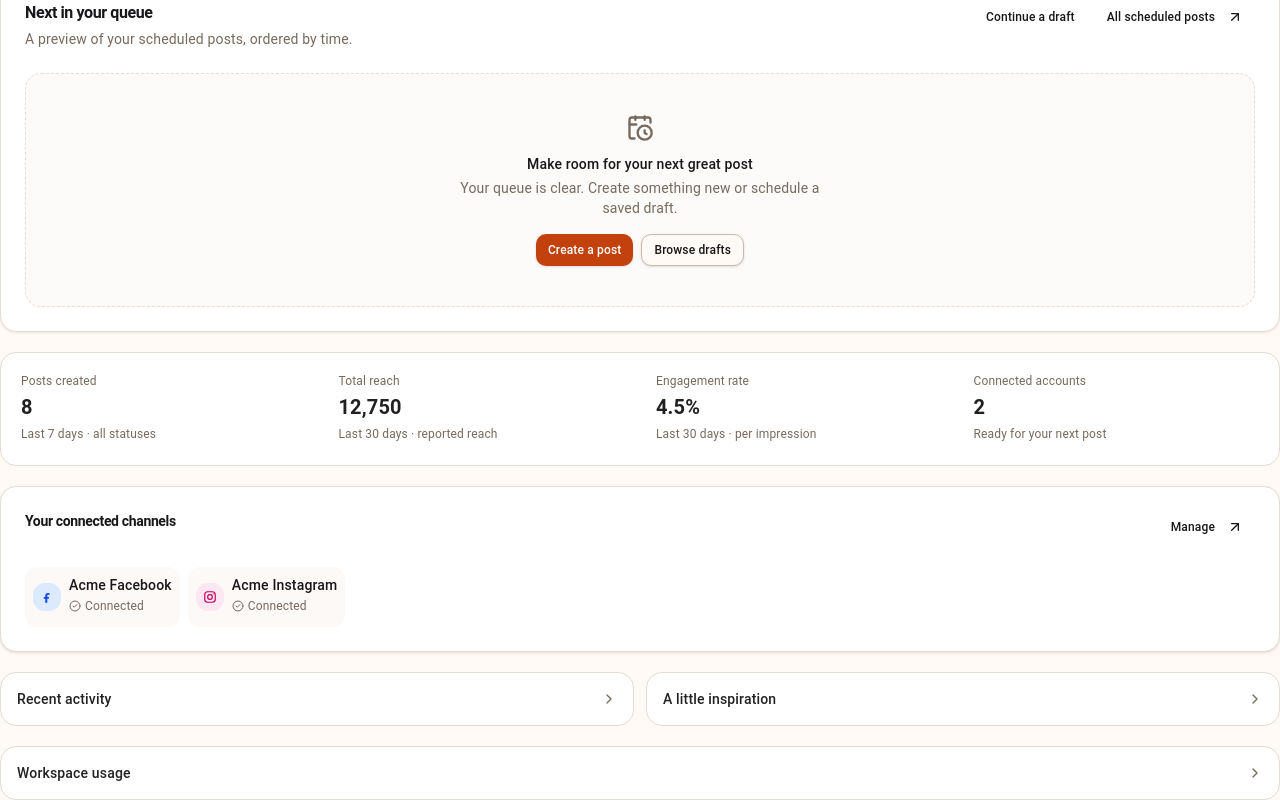
it: SocialDashboard › never treats unlimited posts or accounts as exhausted
The width and height of the screenshot is (1280, 800).
(page scrolled)
Click the heading "Workspace usage" at (74, 772), box [17, 764, 1263, 780]
(page scrolled)
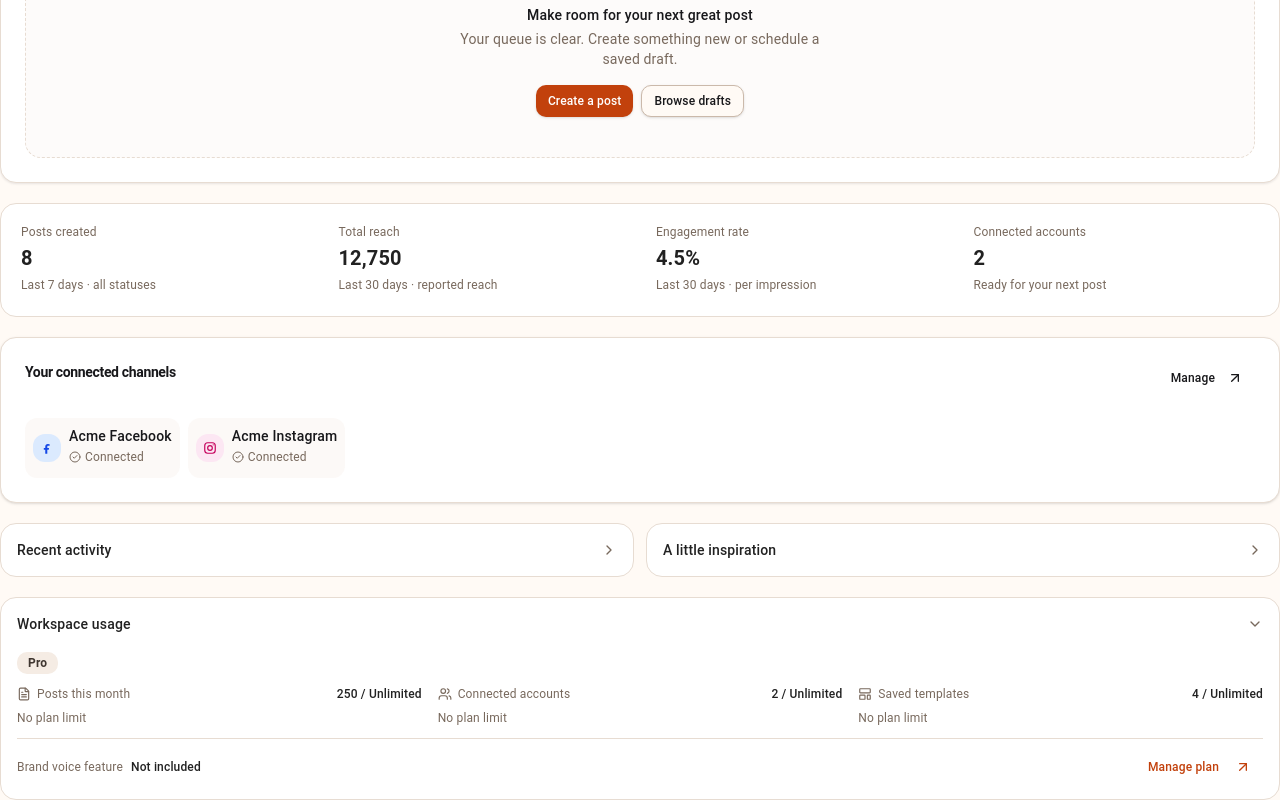
Check: the text "250 / Unlimited" is shown, box [337, 686, 422, 702]
Check: the text "2 / Unlimited" is shown, box [771, 686, 842, 702]
Check: the text "Not included" is shown, box [131, 758, 201, 774]
